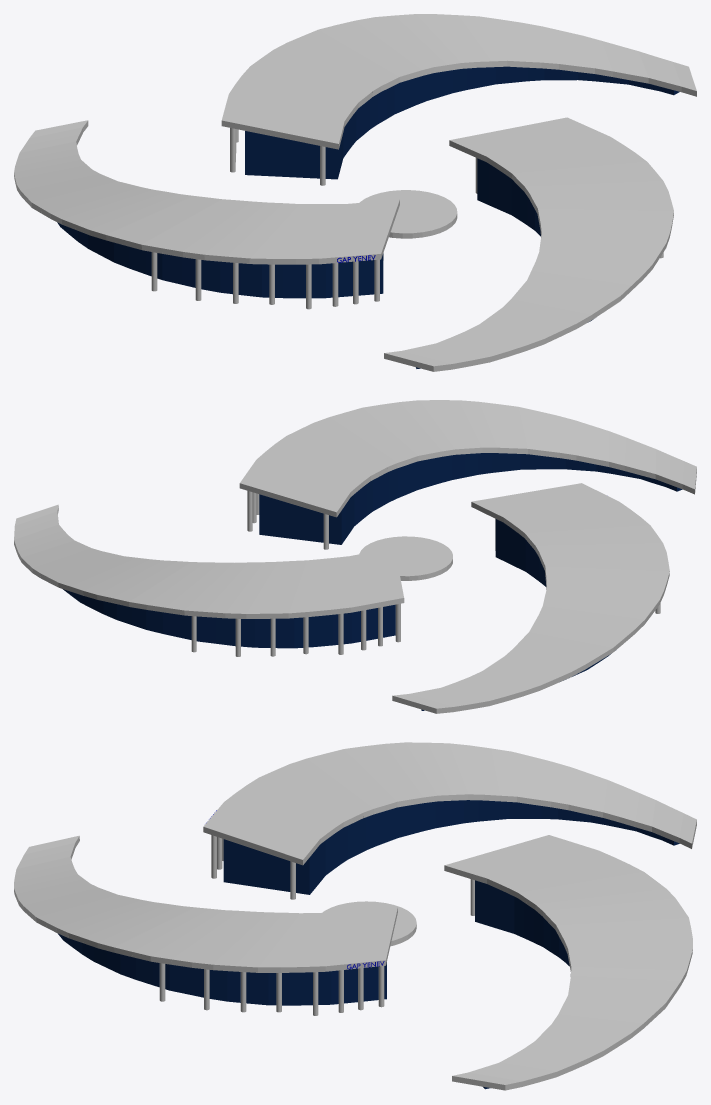
File: Gap-Yenev.obj
The picture shows the model from 3 angles, top to bottom: view 1: azimuth 30°, elevation 25°; view 2: azimuth 150°, elevation 25°; view 3: azimuth 270°, elevation 25°; orthographic projection. The views are drawn at different scales.
Visible parts, largest first — view 1: Cube.001, Cube.009, Cube.007, Cube.008, Cube.006, Cylinder.045, Cube; view 2: Cube.007, Cube.001, Cube.009, Cube, Cube.008, Cylinder.045, Cube.006; view 3: Cube.009, Cube.007, Cube.001, Cube.006, Cube, Cube.008, Cylinder.045.
Boxes of the visible parts, <box> form: Cube.001: <box>384,117,673,371</box>; Cube.009: <box>221,14,696,149</box>; Cube.007: <box>14,120,399,264</box>; Cube.008: <box>245,66,679,179</box>; Cube.006: <box>57,222,383,298</box>; Cylinder.045: <box>359,190,457,238</box>; Cube: <box>416,158,593,368</box>; Cube.007: <box>392,483,669,713</box>; Cube.001: <box>239,400,696,517</box>; Cube.009: <box>14,504,404,618</box>; Cube: <box>259,453,682,544</box>; Cube.008: <box>63,589,395,648</box>; Cylinder.045: <box>359,536,452,580</box>; Cube.006: <box>421,519,610,710</box>; Cube.009: <box>444,835,692,1090</box>; Cube.007: <box>203,742,696,865</box>; Cube.001: <box>14,835,397,972</box>; Cube.006: <box>223,800,679,894</box>; Cube: <box>58,933,386,1005</box>; Cube.008: <box>475,880,569,1089</box>; Cylinder.045: <box>323,901,416,946</box>.
Size of the model in its own units: 3.13 by 0.2327 by 2.88.
